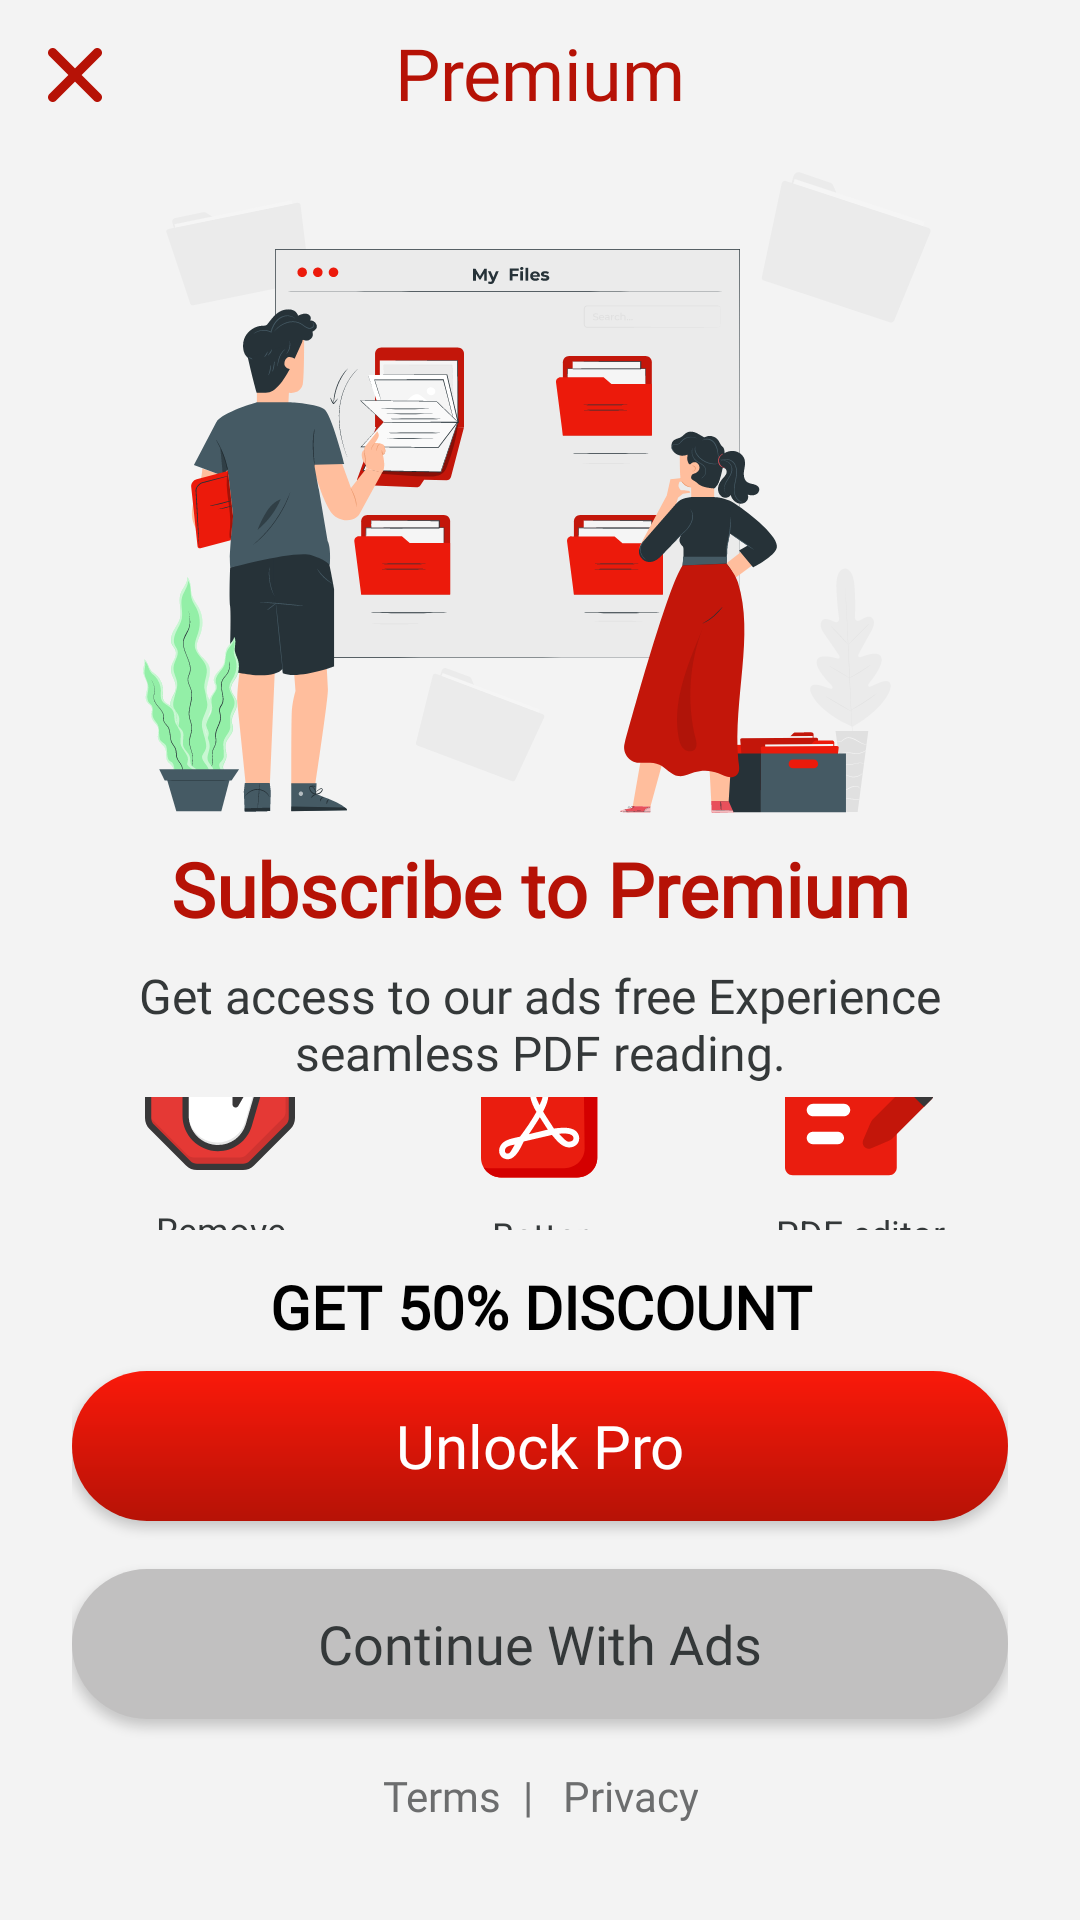

Icon bounding boxes for this 1080×1920 phone screenshot, format (x1, y1, x2, y2):
cross: (48, 48, 102, 102)
